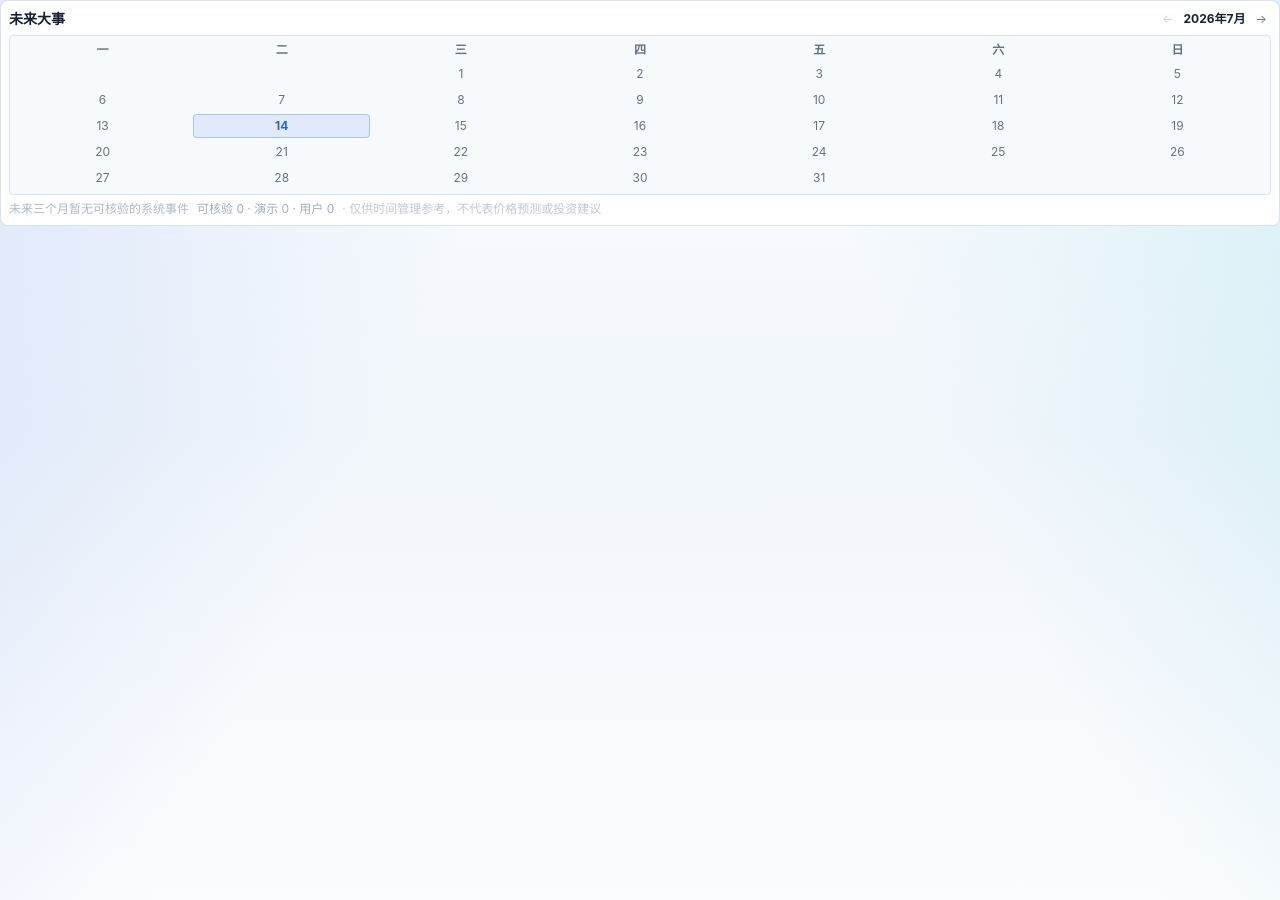
Test: 第十六阶段里程碑二：日历组件渲染 › 月份切换边界：不能切换到三个月范围之外
Expected: the text "2026年7月" is shown, [1184, 11, 1246, 27]
Expected: the button with test id "calendar-prev-month" is disabled, [1158, 9, 1178, 29]
Click the button with test id "calendar-next-month" at x=1261, y=19, box [1252, 9, 1271, 29]
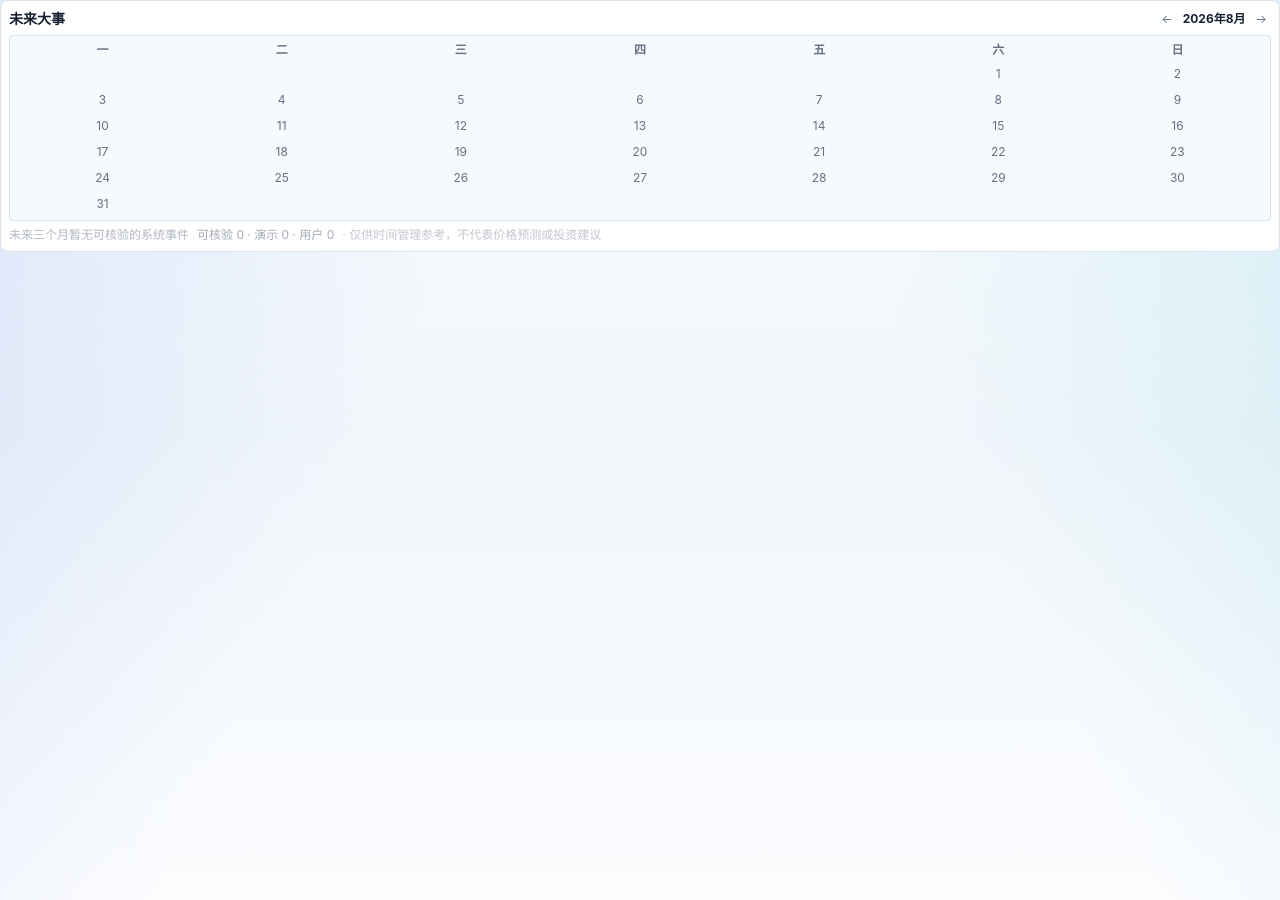
Click the button with test id "calendar-next-month" at x=1261, y=19, box [1252, 9, 1271, 29]
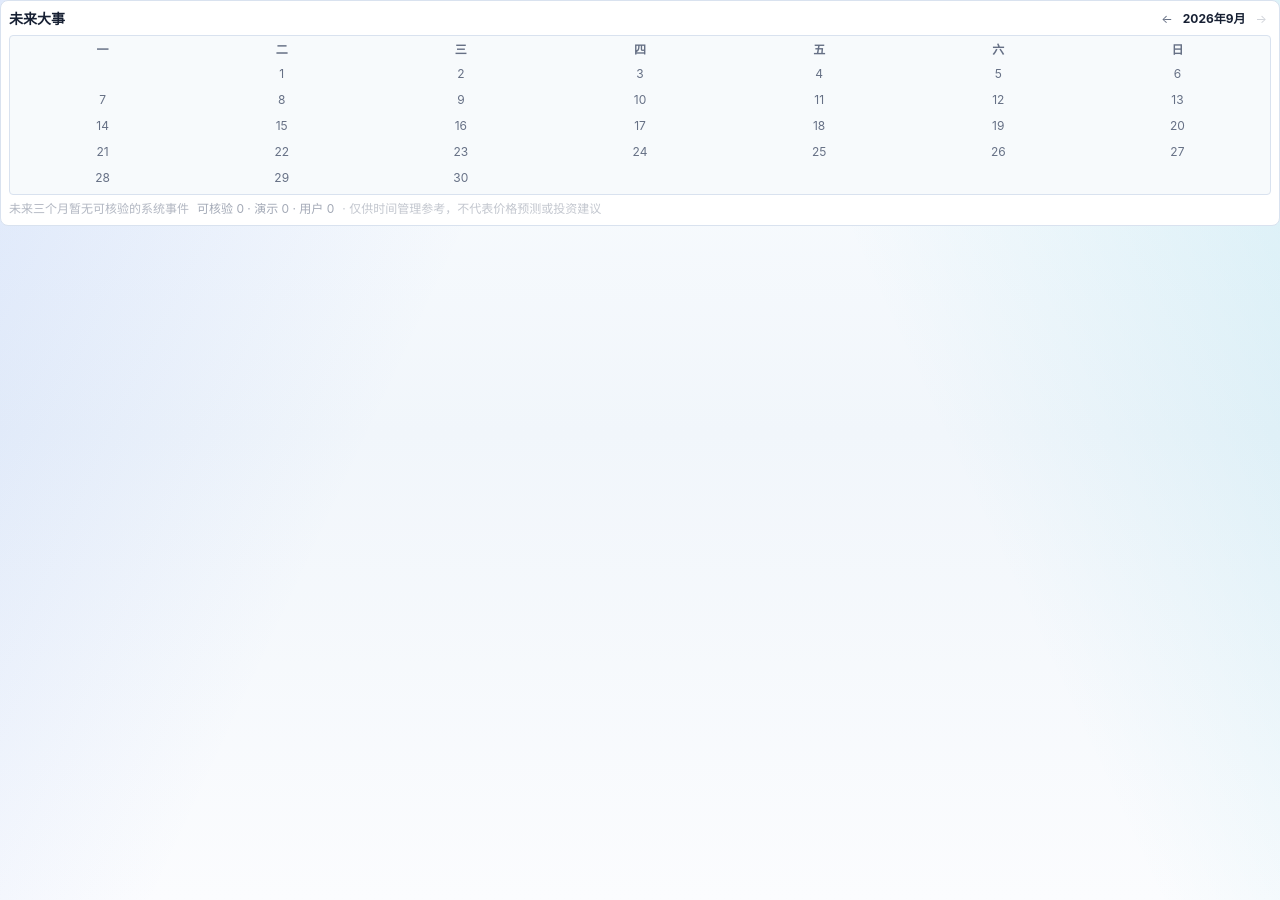
Expected: the button with test id "calendar-next-month" is disabled, [1252, 9, 1271, 29]
